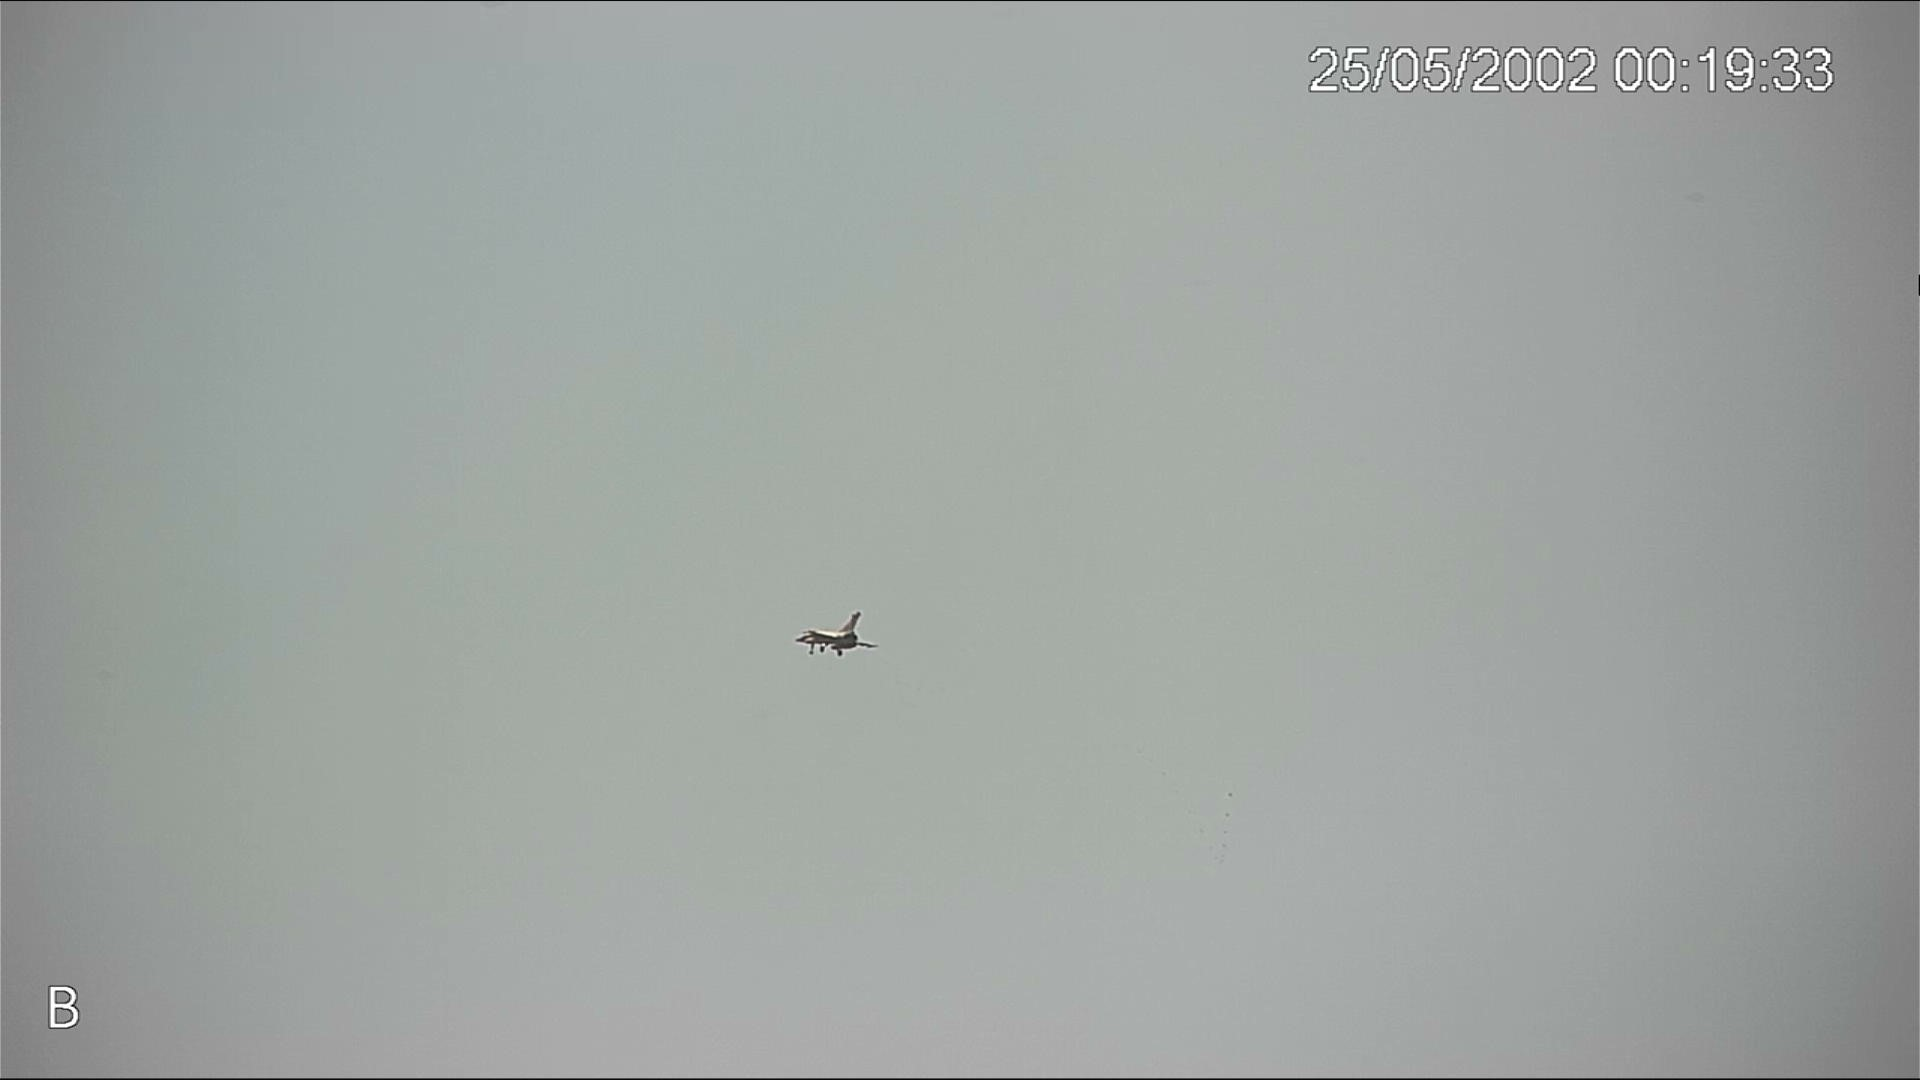SU_30: (785, 608, 880, 658)
